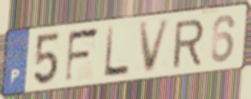5: (34, 29, 63, 88)
6: (209, 13, 238, 65)
F: (63, 25, 102, 86)
L: (102, 25, 131, 80)
R: (171, 17, 206, 71)
V: (137, 17, 173, 77)
